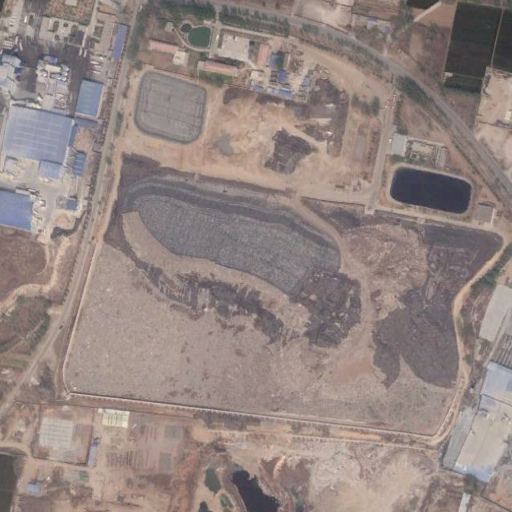lf: (68, 167, 505, 450)
